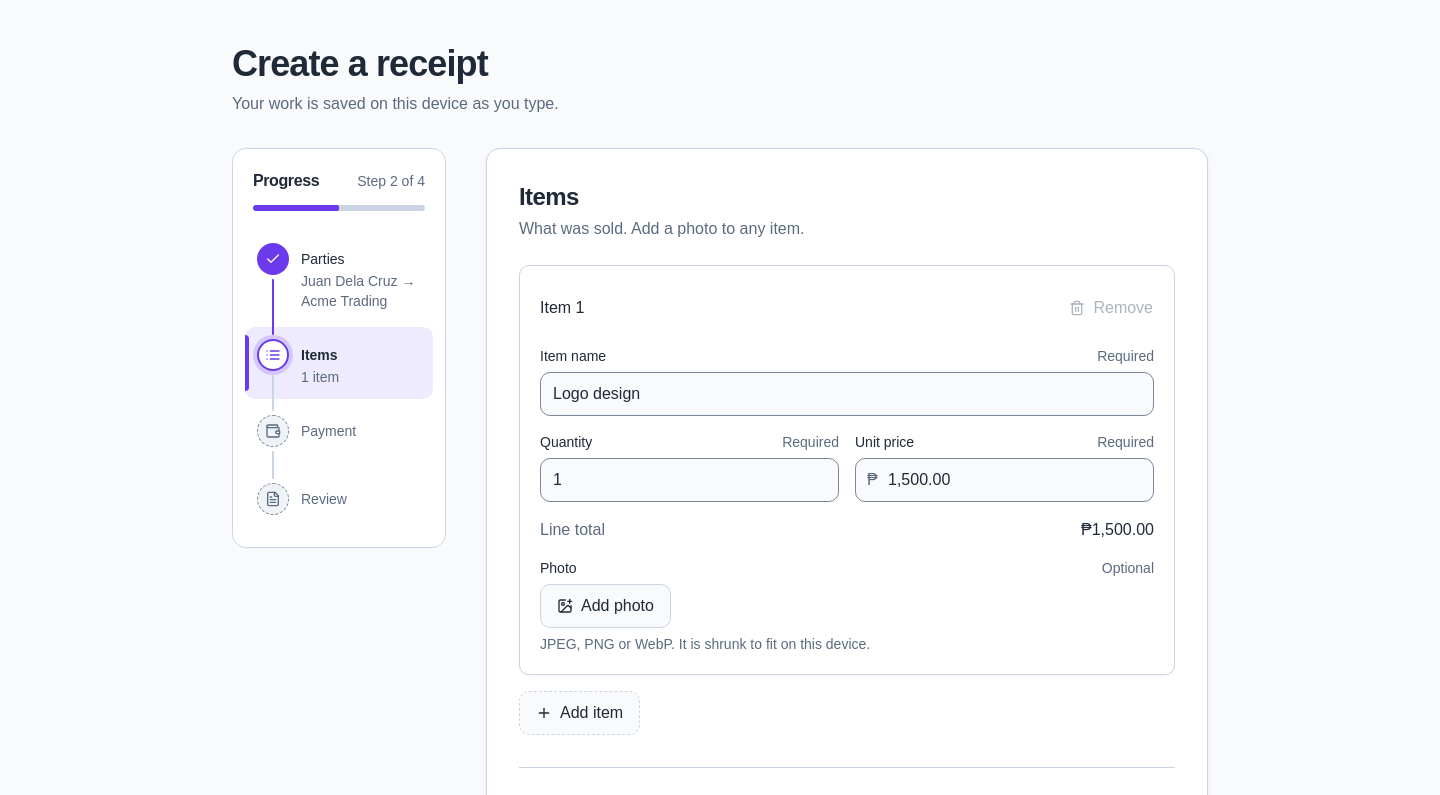
Test: Items step › starts a new row with quantity 1
Click the button "Add item" at coordinates (580, 713), box [519,691,640,735]
(page scrolled)
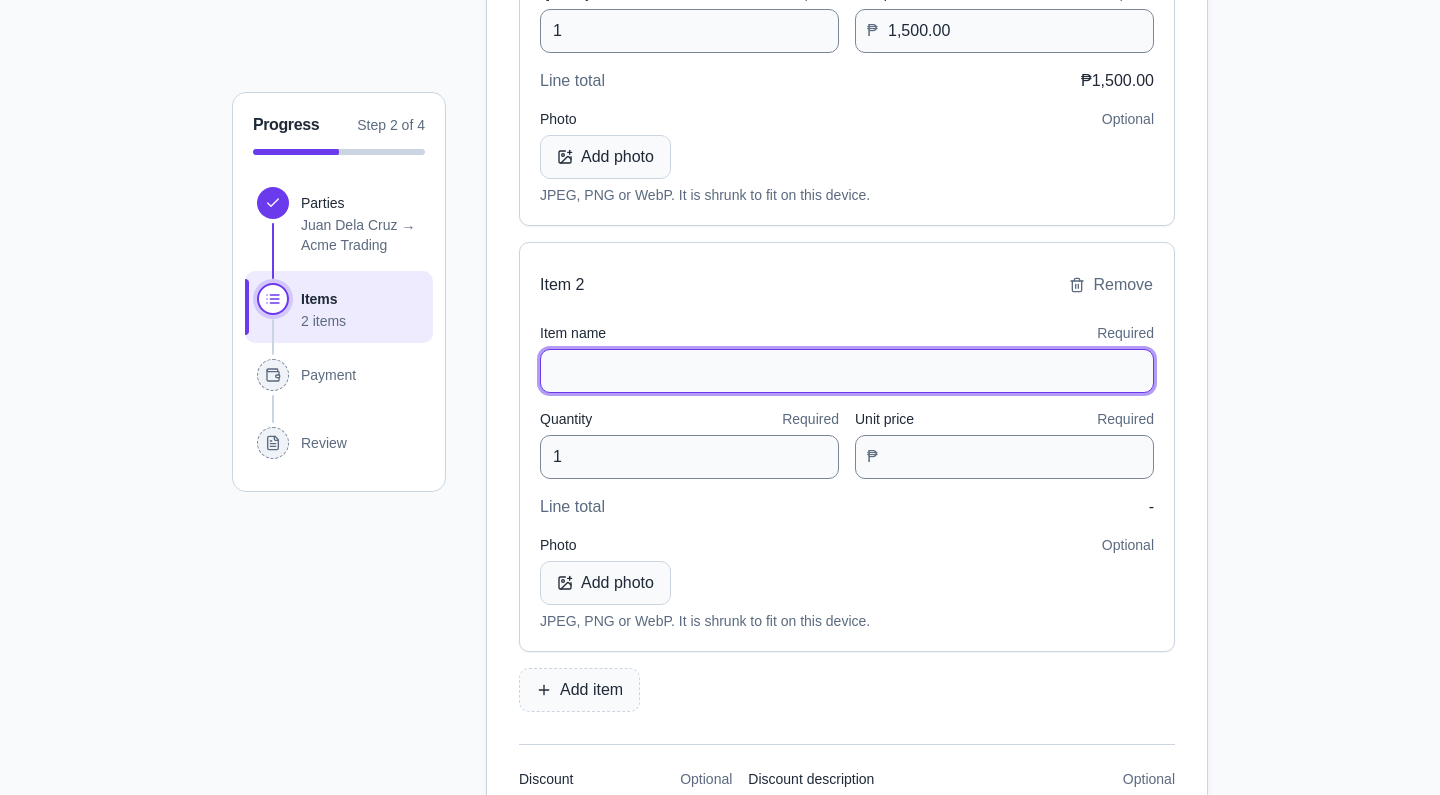
Check: the 2nd field labelled "Quantity" holds "1", box [540,435,839,479]
Check: the 2nd field labelled "Unit price" is empty, box [855,435,1154,479]
